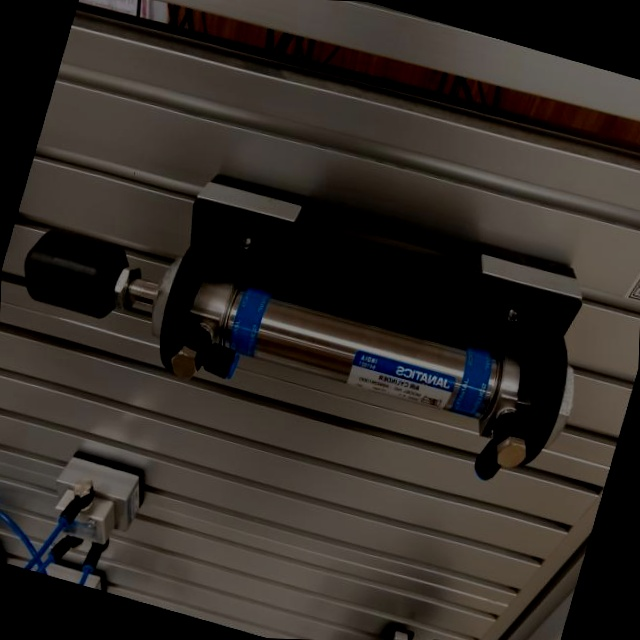double acting pneumatic cylinder: (0, 106, 618, 506)
